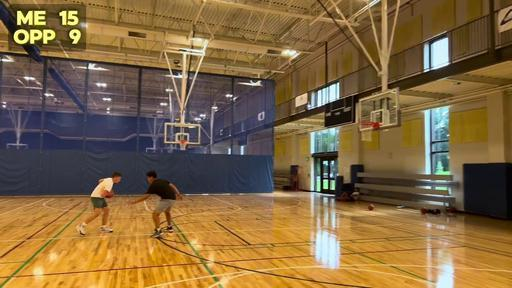ball: (368, 202, 374, 210)
human: (129, 170, 182, 238), (75, 172, 122, 236)
rim: (358, 121, 378, 142), (179, 140, 187, 150)
